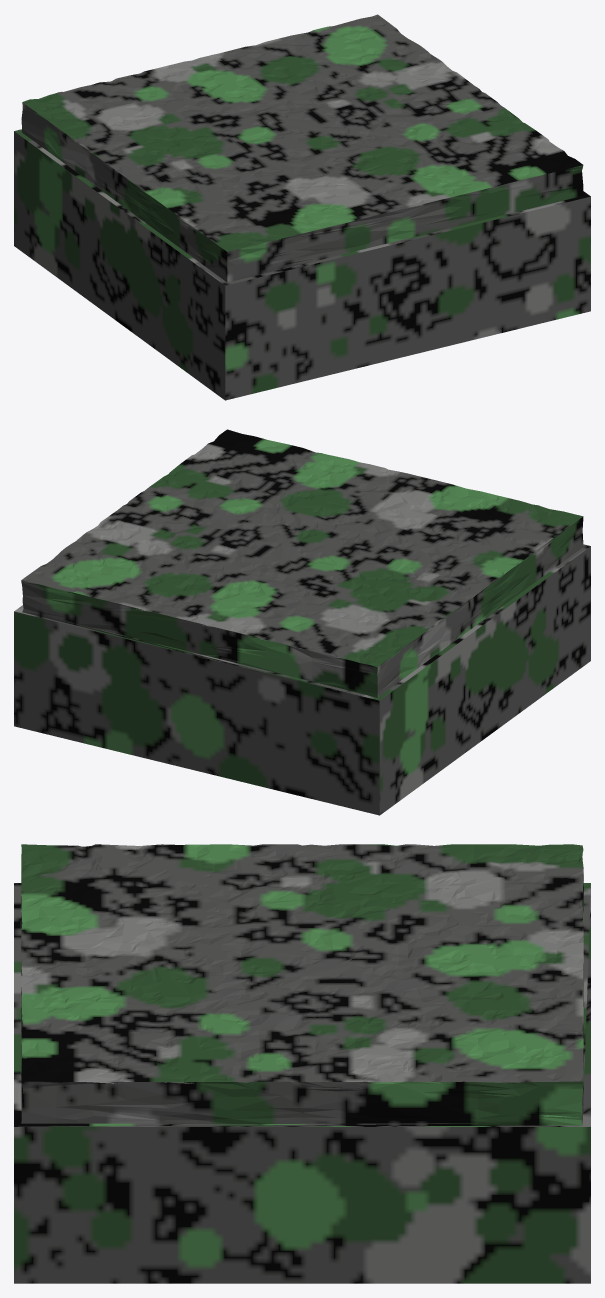
The model's file is floor_1x1.fbx.
The picture shows the model from 3 angles, top to bottom: view 1: azimuth 30°, elevation 25°; view 2: azimuth 150°, elevation 25°; view 3: azimuth 270°, elevation 25°; orthographic projection. The views are drawn at different scales.
Parts seen in each view (by area): view 1: Sewer Floor 1X1; view 2: Sewer Floor 1X1; view 3: Sewer Floor 1X1.
Part boxes in pixels (x1,y1,x2,y2): Sewer Floor 1X1: [14, 14, 590, 400]; Sewer Floor 1X1: [14, 429, 590, 815]; Sewer Floor 1X1: [14, 844, 590, 1283].
Bounding box in the file's own units: 2500 × 950 × 2500.
1 material, 1 textured.
